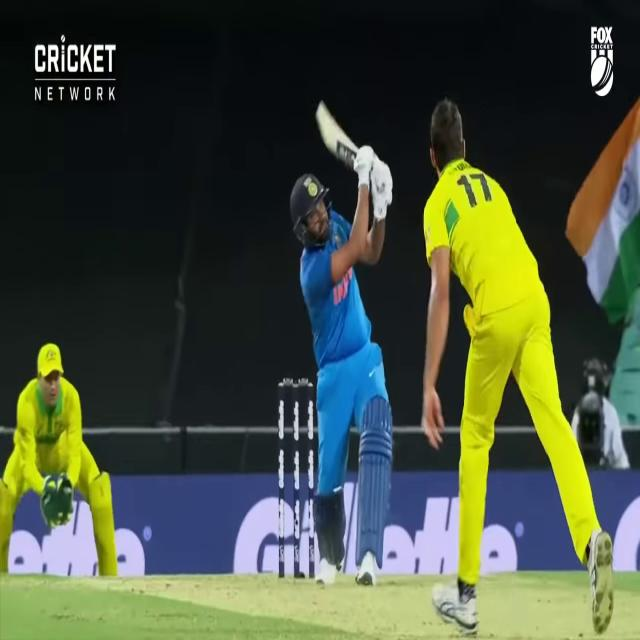stump: (279, 376, 315, 582)
